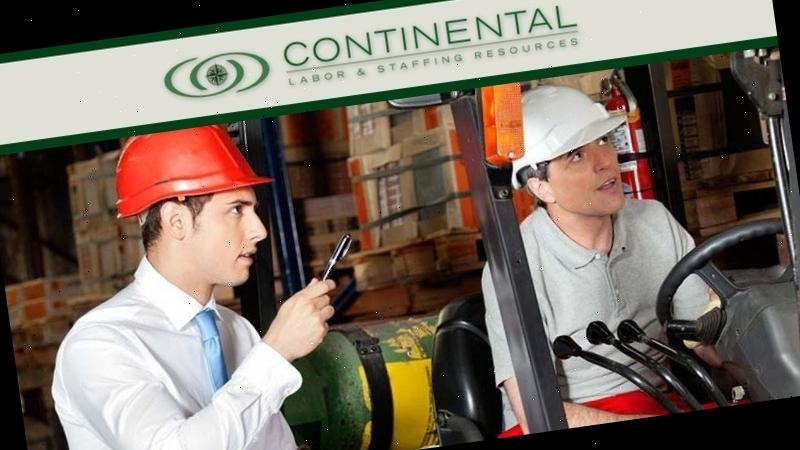helmet: (101, 118, 276, 220), (493, 76, 634, 188)
no_wear: (484, 199, 713, 409), (40, 295, 303, 450), (430, 317, 501, 446)
